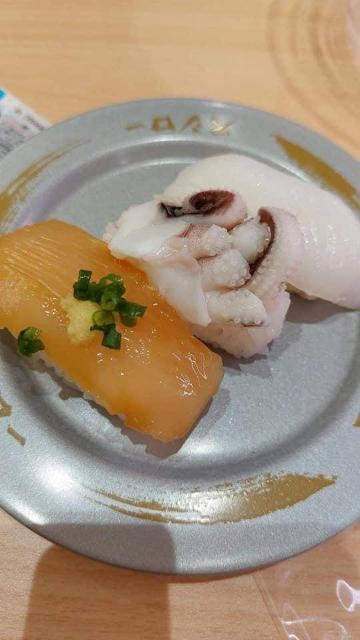janwhite: (15, 140, 360, 528)
